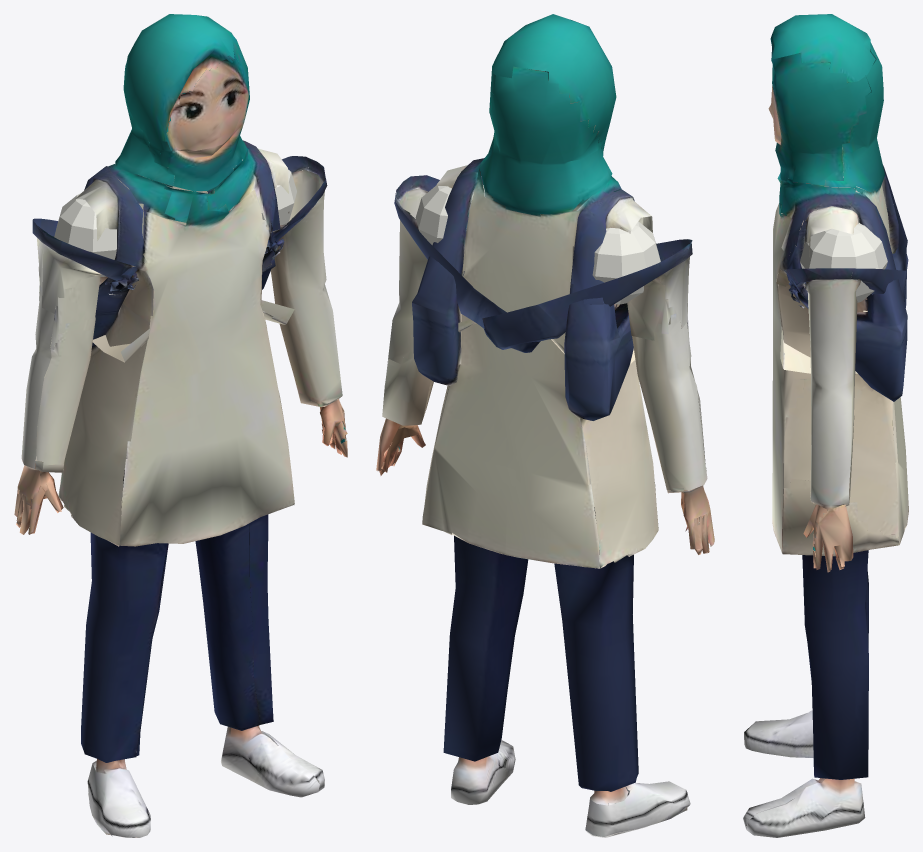
Rendered from hero_mumu.glb.
3 renders of one model, left to right at view 1: azimuth 30°, elevation 25°; view 2: azimuth 150°, elevation 25°; view 3: azimuth 270°, elevation 25°, orthographic.
Visible parts, largest first — view 1: torso, leg_r, leg_l, arm_r, head, arm_l; view 2: torso, leg_r, leg_l, arm_r, head, arm_l; view 3: torso, leg_l, arm_l, head, leg_r, arm_r.
Part boxes in pixels (left/top/right/bottom): torso: left=54, top=117, right=296, bottom=458; leg_r: left=58, top=398, right=211, bottom=837; leg_l: left=195, top=421, right=324, bottom=797; arm_r: left=14, top=218, right=294, bottom=534; head: left=123, top=14, right=249, bottom=153; arm_l: left=92, top=156, right=347, bottom=457; torso: left=412, top=131, right=660, bottom=484; leg_r: left=505, top=421, right=690, bottom=837; leg_l: left=422, top=446, right=528, bottom=804; arm_r: left=458, top=239, right=714, bottom=554; head: left=489, top=14, right=616, bottom=163; arm_l: left=376, top=175, right=635, bottom=475; torso: left=772, top=134, right=908, bottom=466; leg_l: left=743, top=426, right=908, bottom=837; arm_l: left=783, top=268, right=906, bottom=572; head: left=768, top=14, right=883, bottom=154; leg_r: left=744, top=388, right=908, bottom=757; arm_r: left=780, top=165, right=907, bottom=373.
Bounding box in the file's own units: 0.7015 × 1.6 × 0.3138.
1 material, 1 textured.
